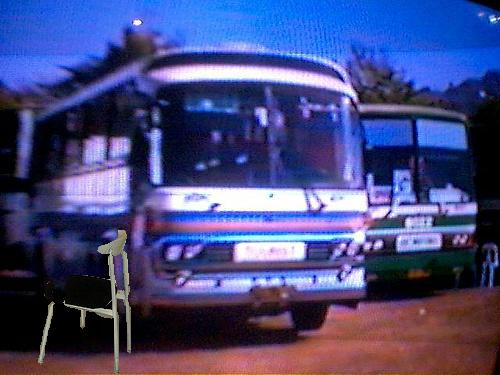tampered: (39, 231, 131, 374)
